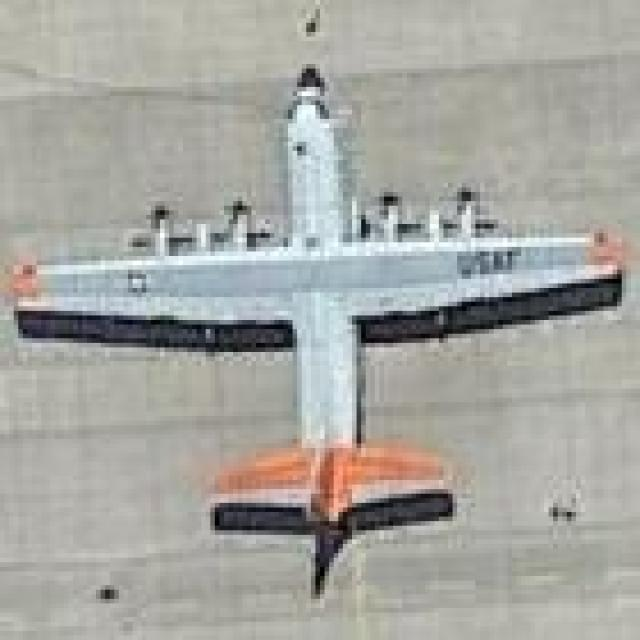C-130_TopDown: (5, 59, 624, 597)
